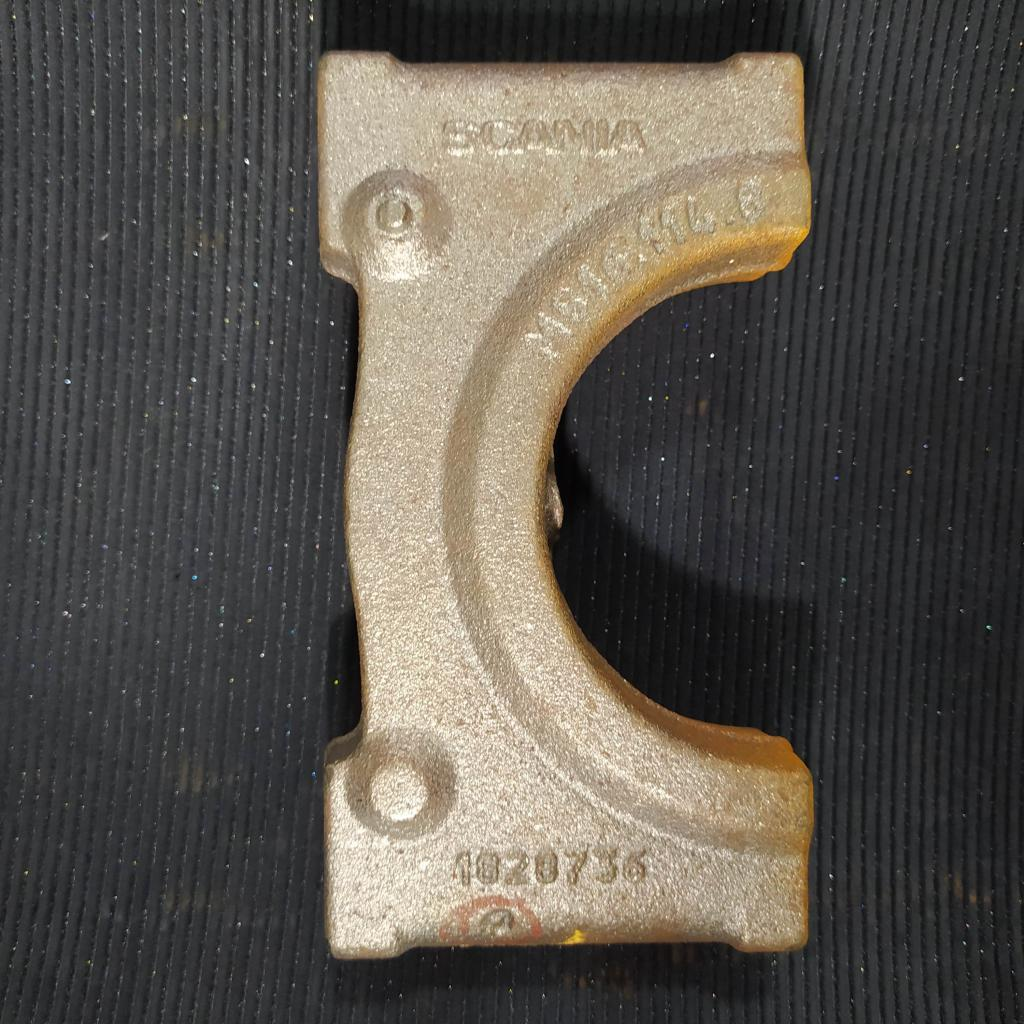buraco: (481, 907, 517, 940)
